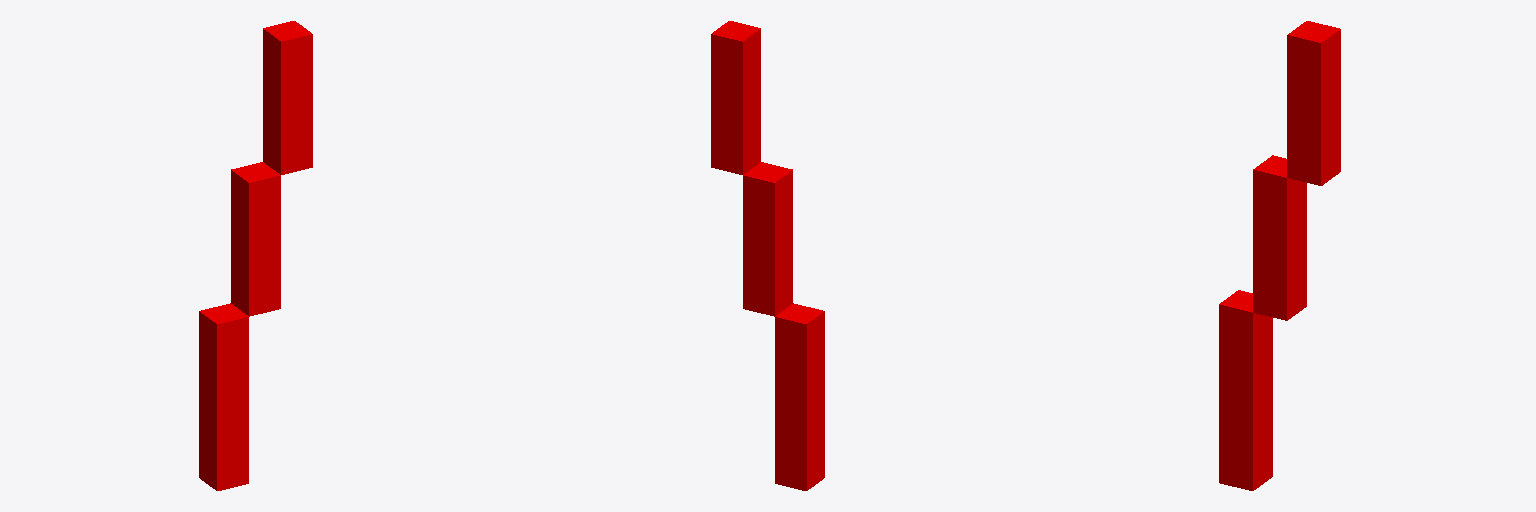
robot.urdf — test_robot:
<robot name="test_robot">
	<material name="red">
	  <color rgba="1 0 0 1"/>
	</material>
  
	<link name="base_link"/>
  
	<joint name="body1_joint" type="fixed">
	  <parent link="base_link"/>
	  <child  link="body1_link"/>
	</joint>
	<link name="body1_link">
	  <visual>
		<geometry>
		  <box size="0.1 0.1 0.5"/>
		</geometry>
		<origin xyz="0 0 0.25" rpy="0 0 0"/>
		<material name="red"/>
	  </visual>
	</link>
  
	<joint name="body2_joint" type="revolute">
	  <parent link="body1_link"/>
	  <child  link="body2_link"/>
	  <origin xyz="0.1 0 0.5" rpy="0 0 0"/>
	  <limit lower="-1.5" upper="1.5" effort="0" velocity="0"/>
	</joint>
	<link name="body2_link">
	  <visual>
		<geometry>
		  <box size="0.1 0.1 0.4"/>
		</geometry>
		<origin xyz="0 0 0.2" rpy="0 0 0"/>
		<material name="red"/>
	  </visual>
	</link>
  
	<joint name="body3_joint" type="revolute">
	  <parent link="body2_link"/>
	  <child  link="body3_link"/>
	  <origin xyz="0.1 0 0.4" rpy="0 0 0"/>
	  <limit lower="-1.5" upper="1.5" effort="0" velocity="0"/>
	</joint>
	<link name="body3_link">
	  <visual>
		<geometry>
		  <box size="0.1 0.1 0.4"/>
		</geometry>
		<origin xyz="0 0 0.2" rpy="0 0 0"/>
		<material name="red"/>
	  </visual>
	</link>
  </robot>

--- Render facts (derived) ---
Views: 3 orthographic renders of the robot side by side, from view 1: azimuth 30°, elevation 25°; view 2: azimuth 150°, elevation 25°; view 3: azimuth 330°, elevation 25°.
Model test_robot with 4 links and 3 joints (2 revolute, 1 fixed), rooted at base_link, posed all joints at 0.
Visible links, largest first — view 1: body1_link, body2_link, body3_link; view 2: body1_link, body2_link, body3_link; view 3: body1_link, body3_link, body2_link.
Boxes of the visible links, left/top/right/bottom form: body1_link: left=199, top=303, right=248, bottom=490; body2_link: left=231, top=162, right=280, bottom=316; body3_link: left=263, top=21, right=312, bottom=174; body1_link: left=775, top=303, right=824, bottom=490; body2_link: left=743, top=162, right=792, bottom=316; body3_link: left=711, top=21, right=760, bottom=174; body1_link: left=1219, top=290, right=1272, bottom=490; body3_link: left=1287, top=21, right=1340, bottom=185; body2_link: left=1253, top=155, right=1306, bottom=320.
Bounding box of the posed robot: 0.3 × 0.1 × 1.3 m (x, y, z).
Geometry: primitives only (box / cylinder / sphere), no mesh files.